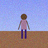person: (18, 14, 29, 39)
